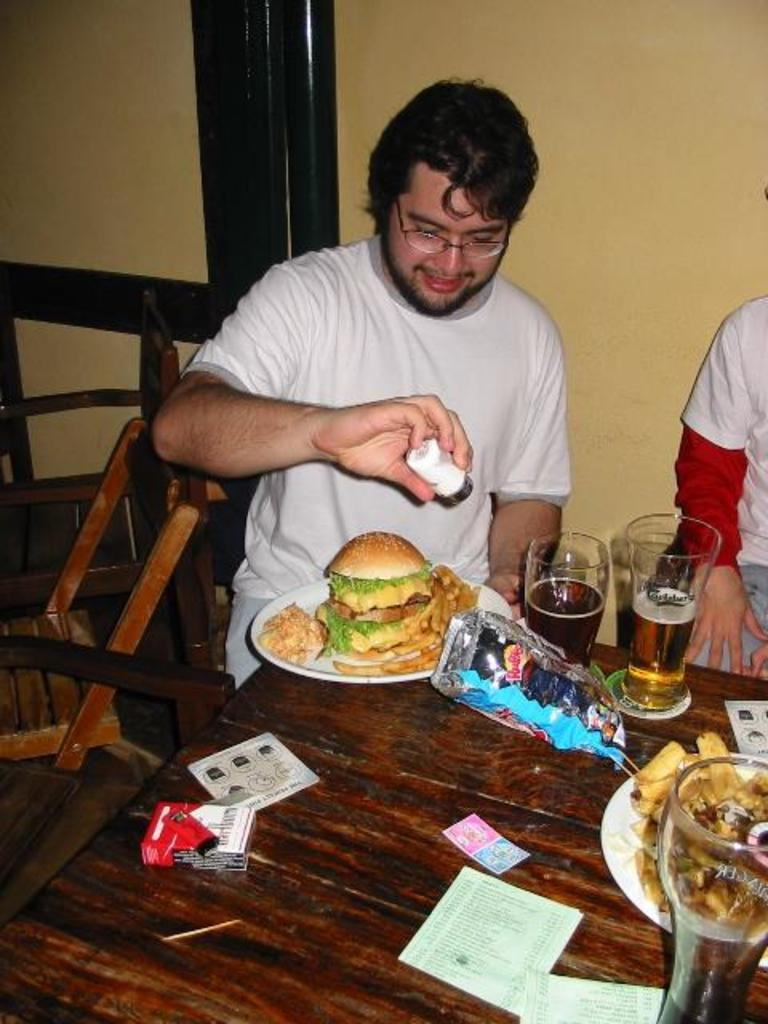Hamburger: (310, 528, 438, 656)
